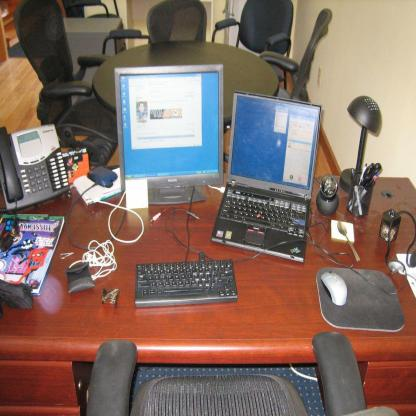board: (208, 90, 324, 266), (360, 162, 382, 188)
